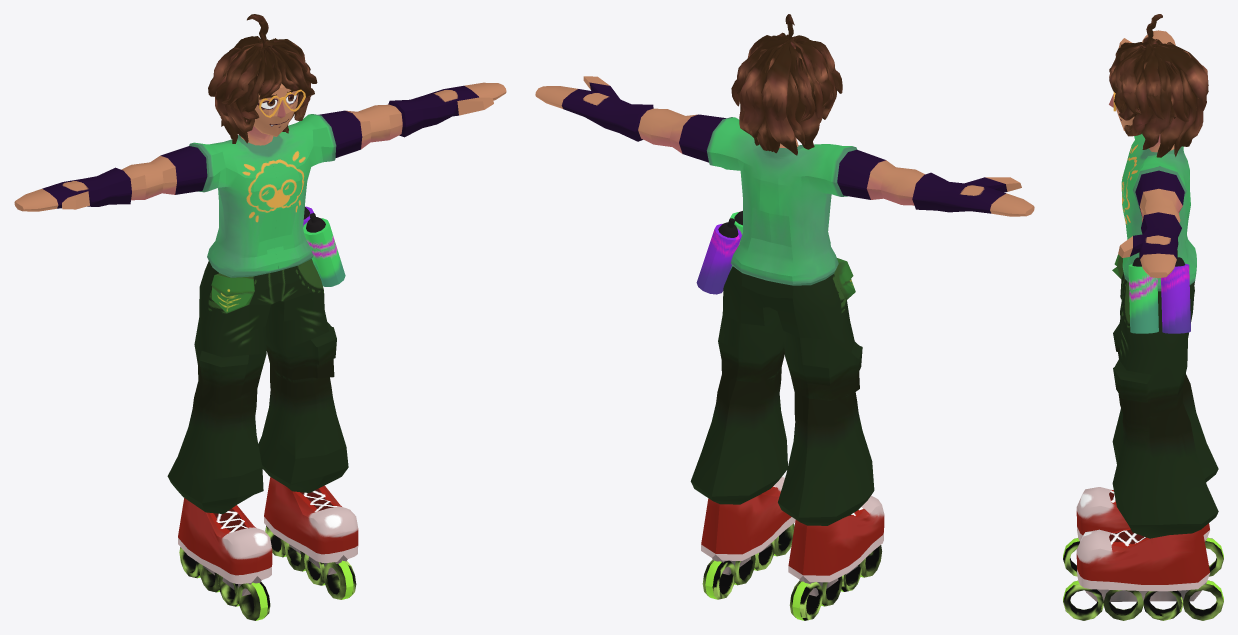
The model's file is Racer.glb.
3 renders of one model, left to right at view 1: azimuth 30°, elevation 25°; view 2: azimuth 150°, elevation 25°; view 3: azimuth 270°, elevation 25°, orthographic. The views are drawn at different scales.
Visible parts, largest first — view 1: Seah; view 2: Seah; view 3: Seah.
Part boxes in pixels (x1,y1,x2,y2): Seah: (14,14,506,620); Seah: (535,14,1034,620); Seah: (1063,14,1223,620).
Bounding box in the file's own units: 15.4 × 17.22 × 4.33.
1 material, 1 textured.
